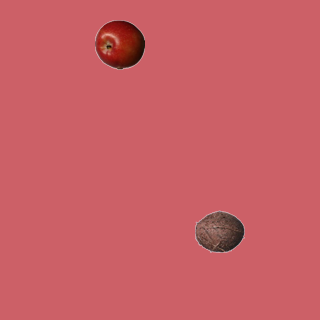Apple Braeburn: (94, 19, 144, 69)
Cocos: (194, 206, 244, 256)
